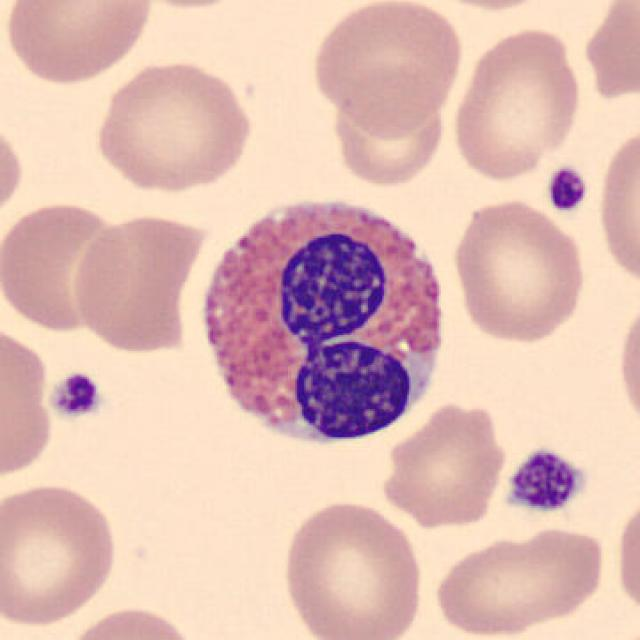Eosinophil: (187, 183, 460, 464)
Platelets: (0, 338, 68, 458), (498, 446, 588, 517), (46, 369, 105, 423), (542, 164, 592, 215)
RBC: (89, 56, 258, 194), (448, 23, 585, 183), (277, 495, 428, 640), (448, 194, 590, 347), (428, 522, 612, 640), (70, 206, 212, 358), (308, 0, 466, 136), (0, 478, 123, 631), (0, 196, 135, 335), (377, 396, 510, 530), (0, 0, 156, 86), (327, 88, 450, 191), (0, 319, 57, 487), (594, 116, 638, 294), (585, 0, 640, 107), (59, 603, 201, 640), (611, 486, 640, 626), (613, 289, 640, 439), (0, 111, 27, 229), (416, 0, 562, 14), (117, 0, 261, 12)
